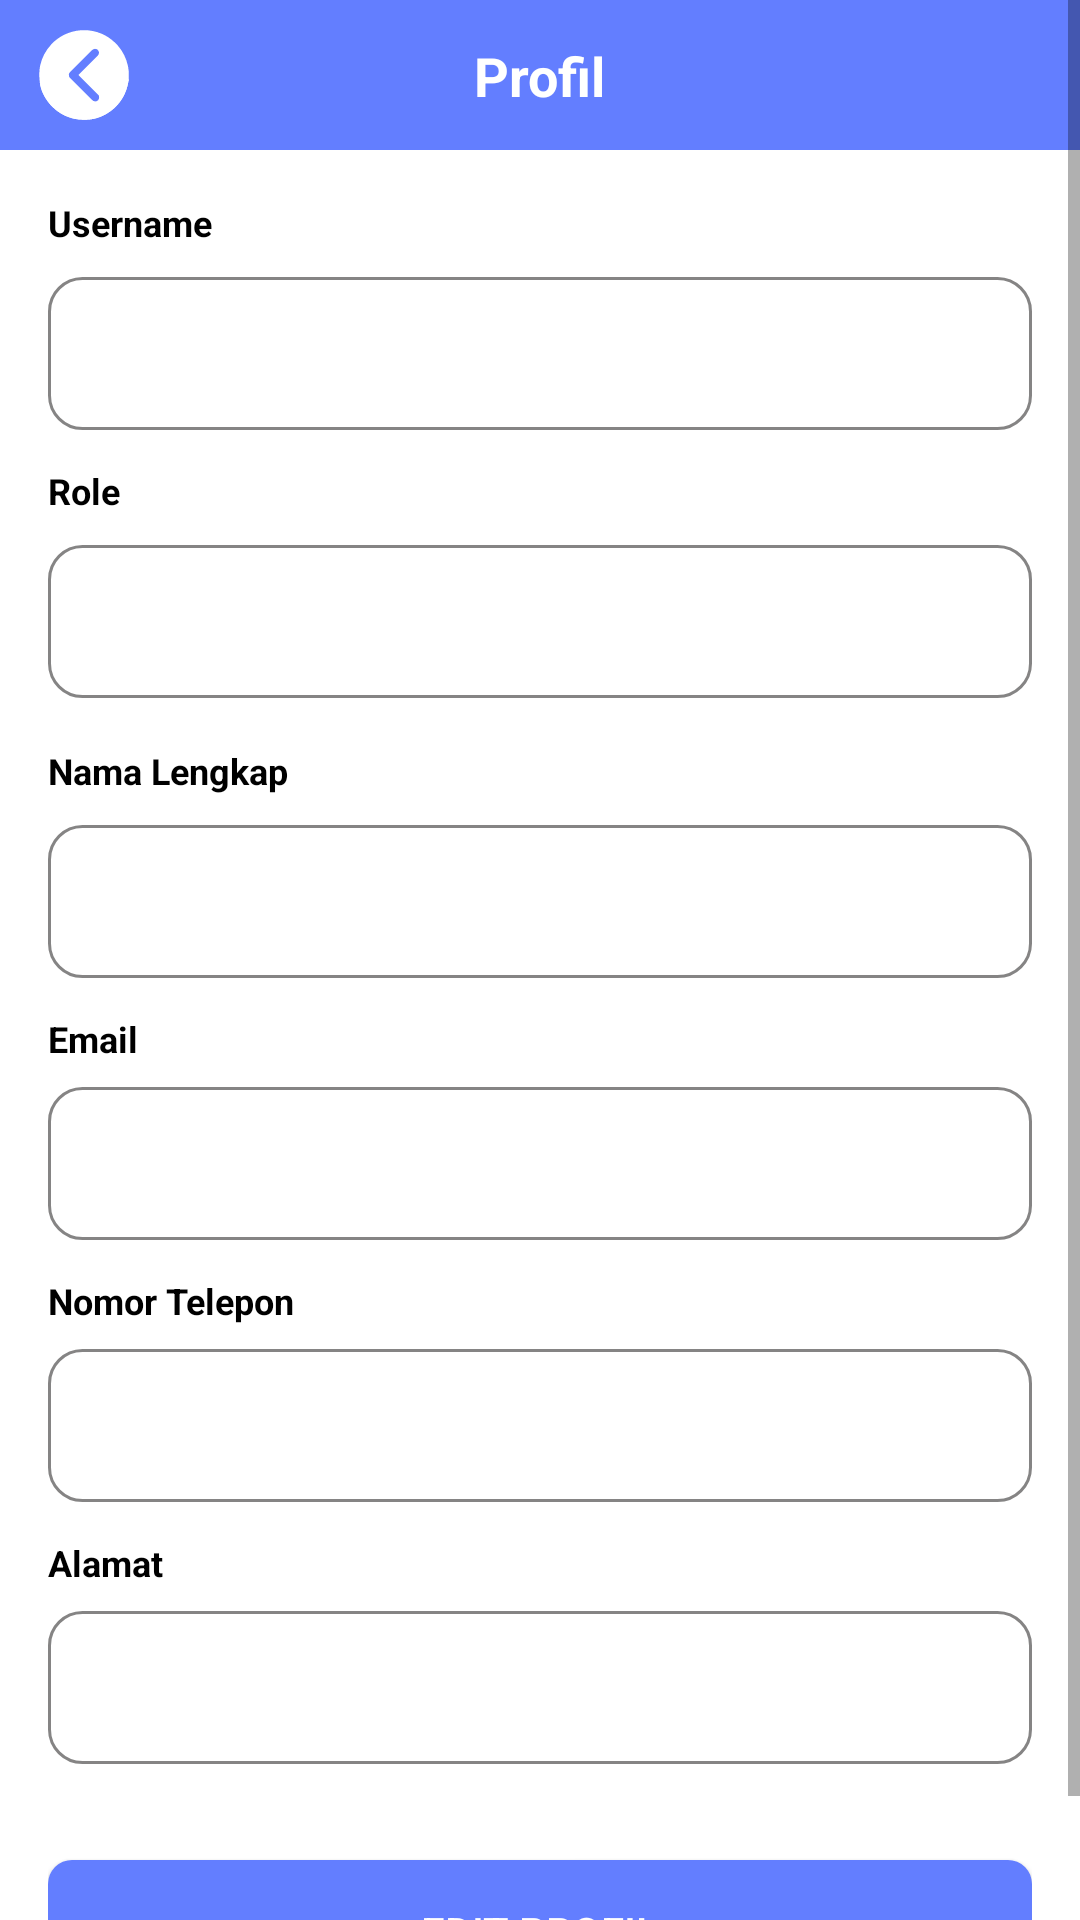

Where to tap for icons on this 1080×1920 app screen, as [x,y]:
Kembali: [84,75]
